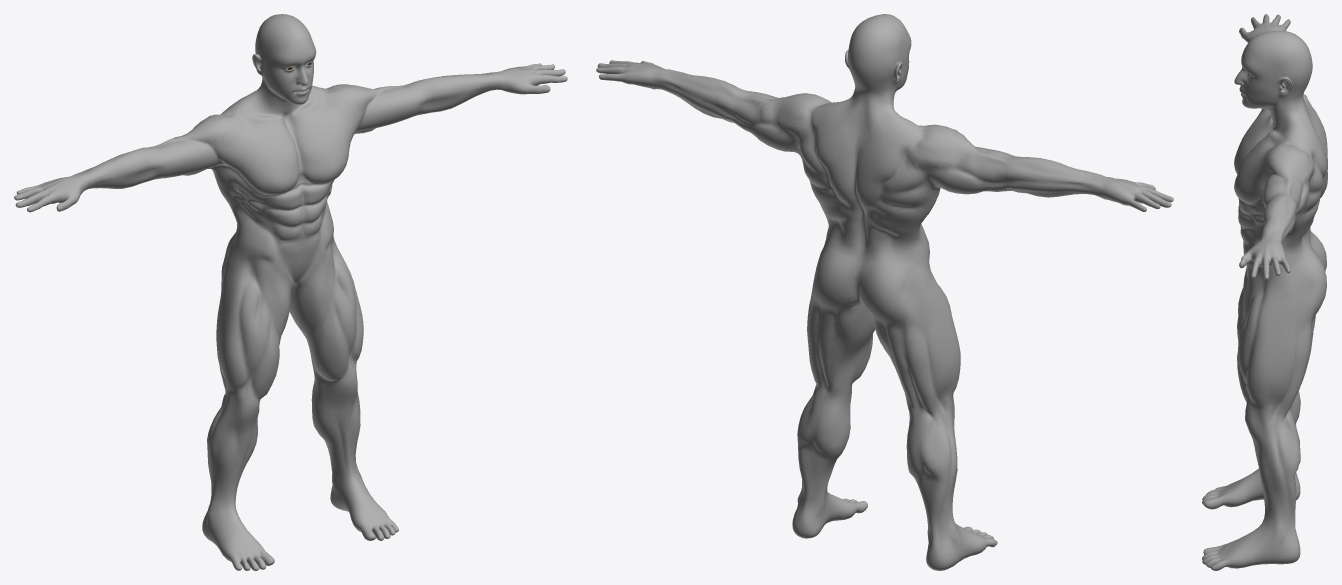
File: Body builder.fbx
The picture shows the model from 3 angles, left to right: view 1: azimuth 30°, elevation 25°; view 2: azimuth 150°, elevation 25°; view 3: azimuth 270°, elevation 25°; orthographic projection. The views are drawn at different scales.
Parts seen in each view (by area): view 1: body_low; view 2: body_low; view 3: body_low.
Part boxes in pixels (x1,y1,x2,y2): body_low: (14,14,567,570); body_low: (596,14,1173,570); body_low: (1202,14,1327,570).
Bounding box in the file's own units: 19.94 × 17.71 × 4.04.
3 materials, 1 textured.
